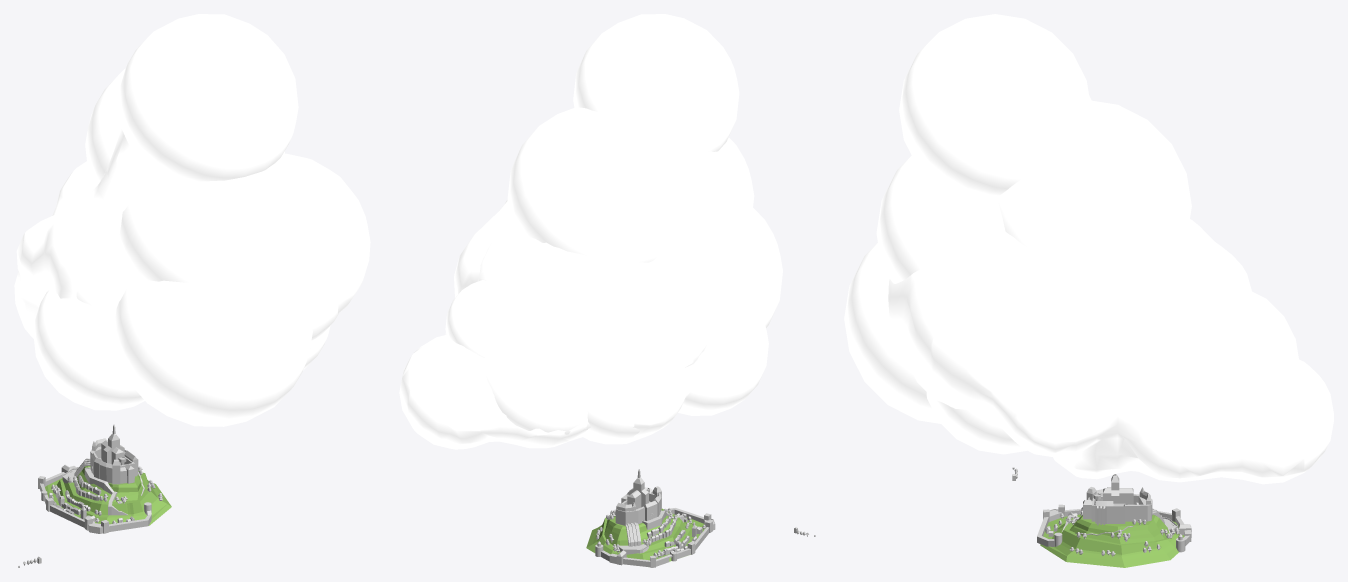
Rendered from Ciudad.glb.
3 views of the same model, side by side, from view 1: azimuth 30°, elevation 25°; view 2: azimuth 150°, elevation 25°; view 3: azimuth 270°, elevation 25° (orthographic). The views are drawn at different scales.
Parts seen in each view (by area): view 1: Cumulo-col, Mball.065, Monaña-col, Muralla-col, Cube.003, Cube.002, Escaleras-col, Castillo-col; view 2: Cumulo-col, Mball.065, Monaña-col, Muralla-col, Castillo-col; view 3: Cumulo-col, Mball.065, Monaña-col, Muralla-col, Castillo-col, Cube.066.
Boxes of the visible parts, left/top/right/bottom form: Cumulo-col: left=33, top=14, right=338, bottom=426; Mball.065: left=14, top=127, right=370, bottom=338; Monaña-col: left=45, top=466, right=171, bottom=525; Muralla-col: left=38, top=464, right=151, bottom=533; Cube.003: left=90, top=452, right=134, bottom=484; Cube.002: left=101, top=424, right=124, bottom=465; Escaleras-col: left=84, top=467, right=127, bottom=515; Castillo-col: left=62, top=446, right=134, bottom=483; Cumulo-col: left=445, top=14, right=782, bottom=444; Mball.065: left=399, top=115, right=745, bottom=449; Monaña-col: left=586, top=508, right=705, bottom=561; Muralla-col: left=595, top=508, right=715, bottom=567; Castillo-col: left=615, top=492, right=657, bottom=554; Cumulo-col: left=844, top=14, right=1298, bottom=454; Mball.065: left=888, top=95, right=1333, bottom=484; Monaña-col: left=1040, top=514, right=1184, bottom=567; Muralla-col: left=1037, top=504, right=1191, bottom=552; Castillo-col: left=1091, top=493, right=1177, bottom=533; Cube.066: left=1095, top=501, right=1125, bottom=525.
Size of the model in its own units: 478 by 663 by 543.
Materials: 2 (1 with a texture image).
